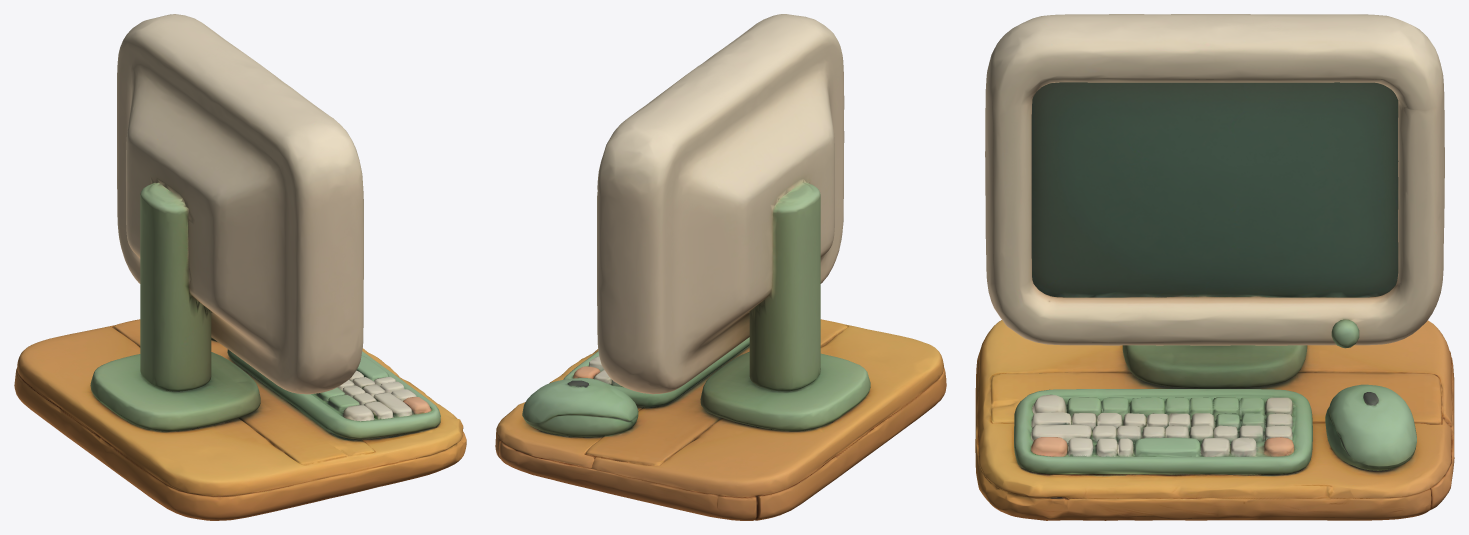
The model's file is discovery-computer-v1.glb.
3 views of the same model, side by side, from view 1: azimuth 30°, elevation 25°; view 2: azimuth 150°, elevation 25°; view 3: azimuth 270°, elevation 25° (orthographic). The views are drawn at different scales.
Parts seen in each view (by area): view 1: tripo_node_96526eb3-8d46-4342-bb22-8f7b796bd7f5; view 2: tripo_node_96526eb3-8d46-4342-bb22-8f7b796bd7f5; view 3: tripo_node_96526eb3-8d46-4342-bb22-8f7b796bd7f5.
Part boxes in pixels (x1,y1,x2,y2): tripo_node_96526eb3-8d46-4342-bb22-8f7b796bd7f5: (14, 14, 466, 520); tripo_node_96526eb3-8d46-4342-bb22-8f7b796bd7f5: (495, 14, 946, 520); tripo_node_96526eb3-8d46-4342-bb22-8f7b796bd7f5: (975, 14, 1454, 520).
Bounding box in the file's own units: 0.8407 × 0.9808 × 1.
1 material, 1 textured.
